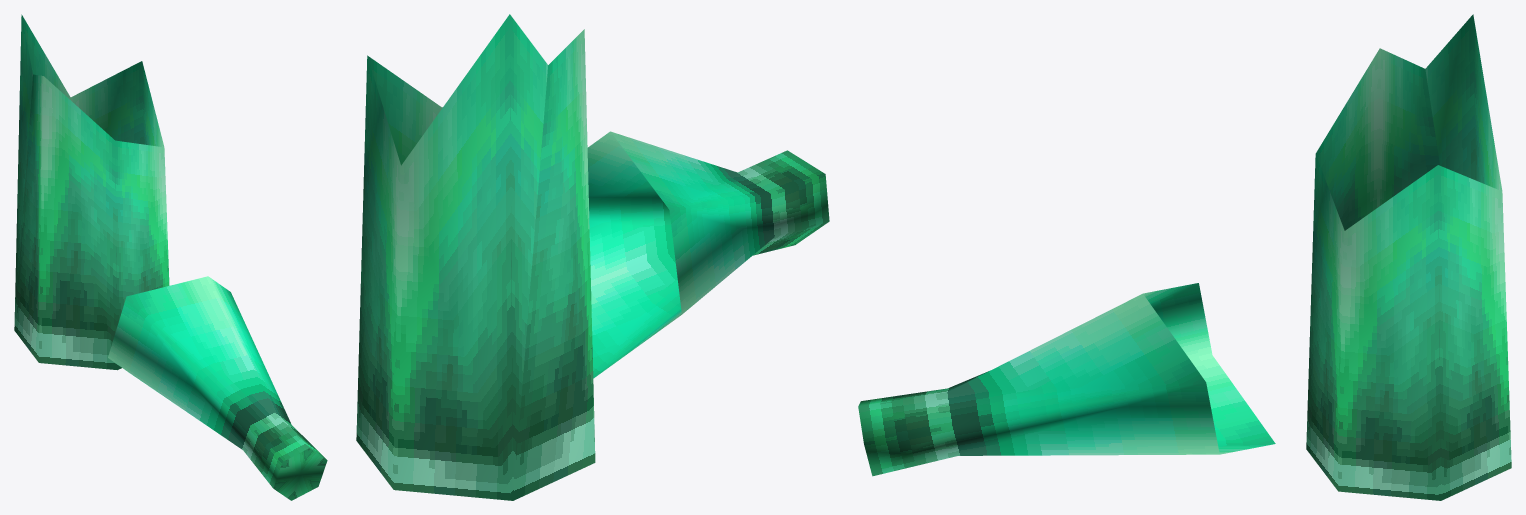
Rendered from greenbottle01.glb.
3 views of the same model, side by side, from view 1: azimuth 30°, elevation 25°; view 2: azimuth 150°, elevation 25°; view 3: azimuth 270°, elevation 25° (orthographic). The views are drawn at different scales.
Size of the model in its own units: 0.1515 by 0.3595 by 0.4944.
Materials: 1 (1 with a texture image).
